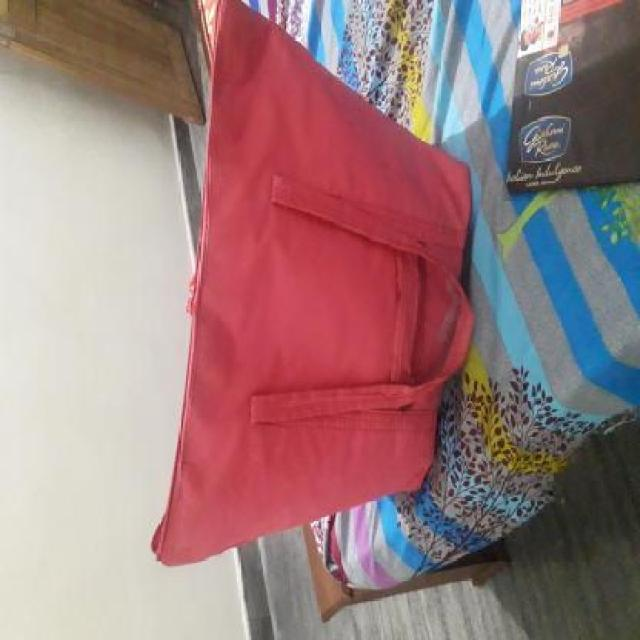backpack: (144, 0, 477, 572)
